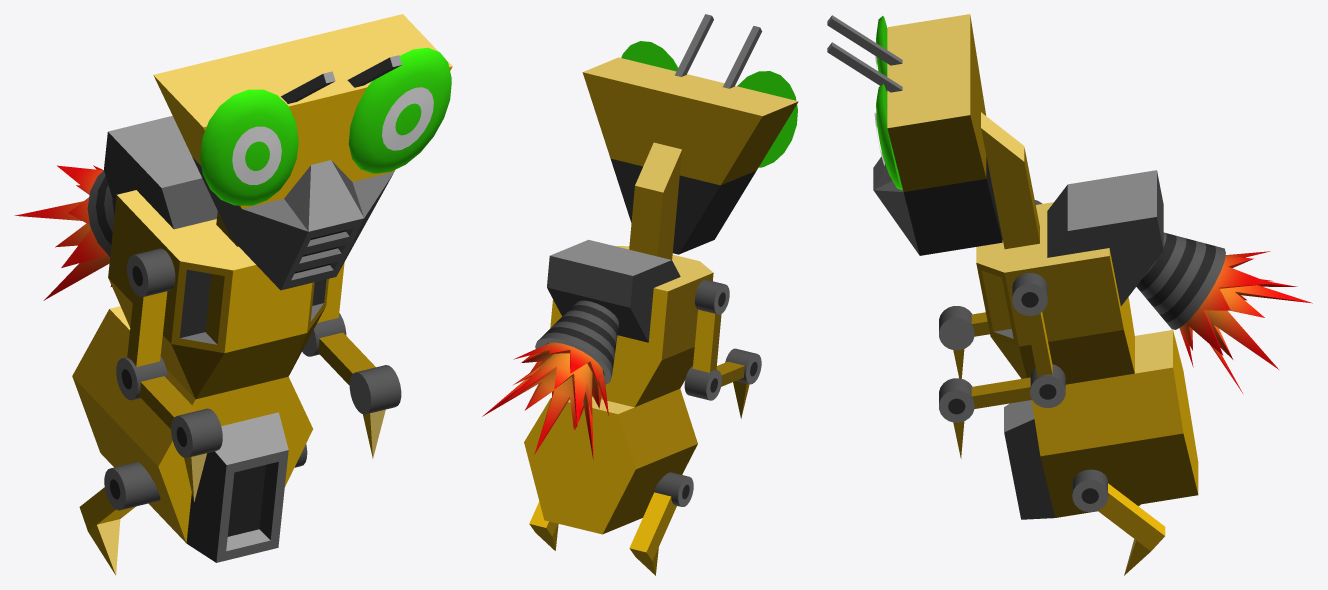
Rendered from Ch_219@Down.FBX.
3 renders of one model, left to right at view 1: azimuth 30°, elevation 25°; view 2: azimuth 150°, elevation 25°; view 3: azimuth 270°, elevation 25°, orthographic. The views are drawn at different scales.
Visible parts, largest first — view 1: Ch_207_Head, Ch_207_Chest, Ch_207, Ch_207_Arm_L, Ch_207_Arm_R, Ch_207_Leg_L, Ch_207_Eye_01, Ch_219_Fire; view 2: Ch_207_Head, Ch_207_Chest, Ch_207, Ch_219_Fire, Ch_207_Arm_L, Ch_207_Leg_L, Ch_207_Leg_R; view 3: Ch_207_Chest, Ch_207_Head, Ch_207, Ch_207_Arm_R, Ch_219_Fire, Ch_207_Leg_R, Ch_207_Arm_L.
Boxes of the visible parts, x1,y1,x2,y2 form: Ch_207_Head: (153, 14, 452, 290); Ch_207_Chest: (87, 116, 328, 399); Ch_207: (72, 306, 312, 562); Ch_207_Arm_L: (116, 248, 222, 501); Ch_207_Arm_R: (302, 262, 401, 458); Ch_207_Leg_L: (79, 462, 160, 575); Ch_207_Eye_01: (232, 87, 433, 184); Ch_219_Fire: (14, 165, 111, 300); Ch_207_Head: (582, 14, 798, 259); Ch_207_Chest: (535, 239, 713, 407); Ch_207: (524, 389, 697, 534); Ch_219_Fire: (482, 342, 608, 459); Ch_207_Arm_L: (684, 279, 761, 418); Ch_207_Leg_L: (629, 472, 693, 575); Ch_207_Leg_R: (529, 502, 558, 550); Ch_207_Chest: (976, 170, 1225, 384); Ch_207_Head: (827, 14, 1039, 255); Ch_207: (1004, 330, 1198, 519); Ch_207_Arm_R: (939, 272, 1065, 458); Ch_219_Fire: (1179, 251, 1312, 393); Ch_207_Leg_R: (1072, 469, 1165, 575); Ch_207_Arm_L: (939, 200, 1042, 378).
Bounding box in the file's own units: 4.43 × 10.56 × 9.
